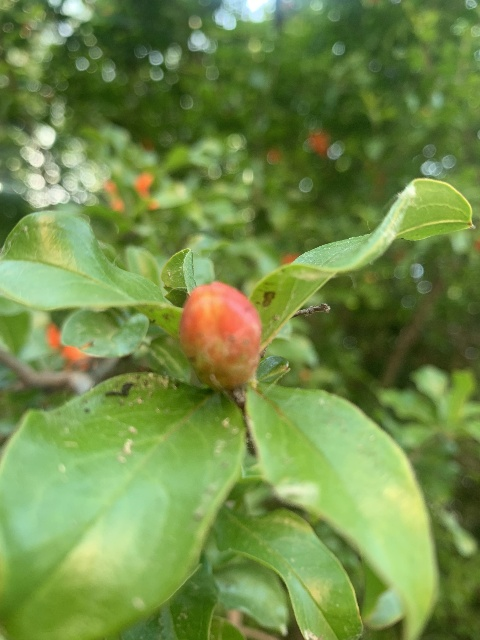bud: (178, 282, 261, 392)
